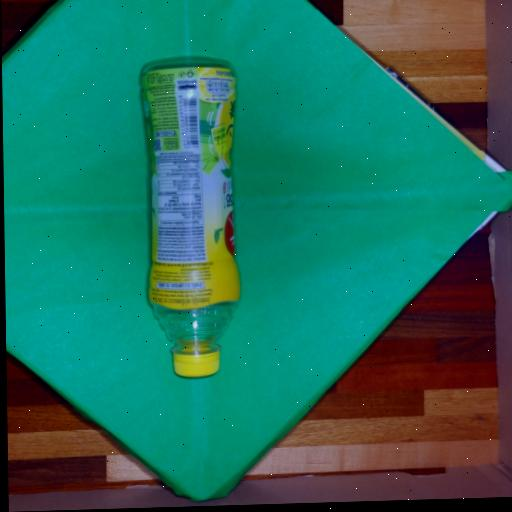bottle: (138, 61, 240, 380)
